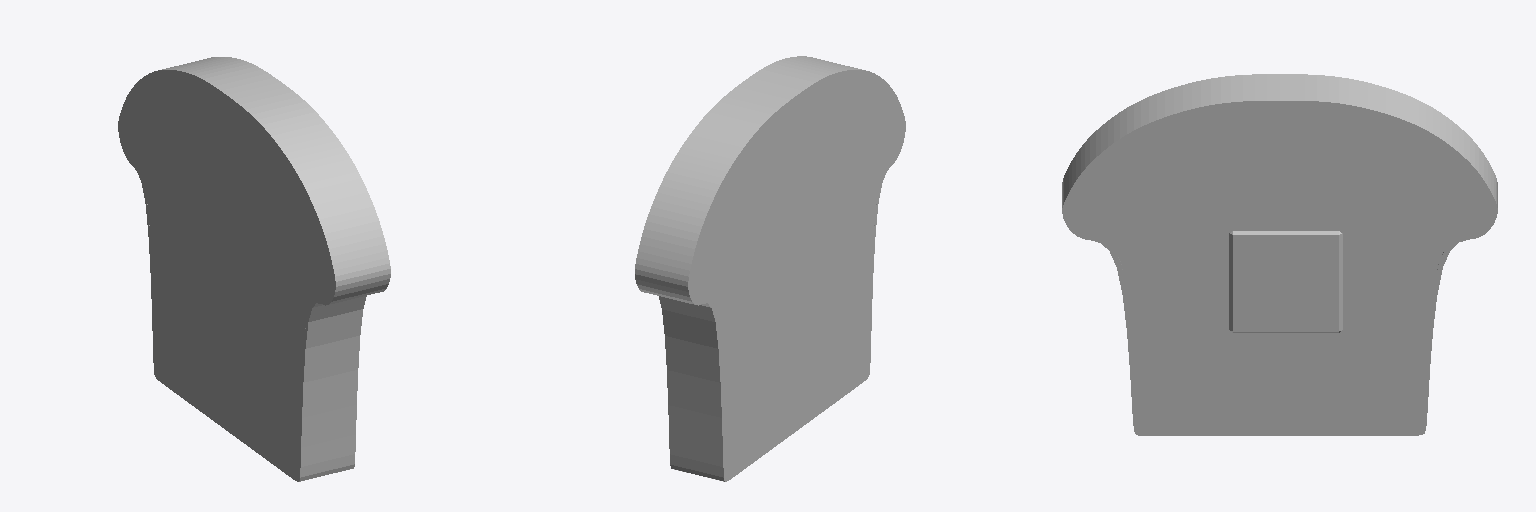
Rendered from slice_buttered.obj.
The picture shows the model from 3 angles: view 1: azimuth 30°, elevation 25°; view 2: azimuth 150°, elevation 25°; view 3: azimuth 270°, elevation 25°; orthographic projection.
Parts seen in each view (by area): view 1: Cube.004_Cube.005, Cube_Cube.001, Cube.003_Cube.004; view 2: Cube.004_Cube.005, Cube_Cube.001, Cube.003_Cube.004; view 3: Cube.002_Cube.003, Cube.005_Cube, Cube_Cube.001, Cube.001_Cube.002.
Boxes of the visible parts, <box> form: Cube.004_Cube.005: <box>120,73,333,477</box>; Cube_Cube.001: <box>147,57,390,481</box>; Cube.003_Cube.004: <box>118,70,335,481</box>; Cube.004_Cube.005: <box>690,73,903,477</box>; Cube_Cube.001: <box>635,56,876,481</box>; Cube.003_Cube.004: <box>688,70,905,481</box>; Cube.002_Cube.003: <box>1067,105,1492,431</box>; Cube.005_Cube: <box>1229,231,1342,332</box>; Cube_Cube.001: <box>1062,74,1497,269</box>; Cube.001_Cube.002: <box>1062,101,1497,435</box>.
Bounding box in the file's own units: 0.0344 × 0.1898 × 0.2232.